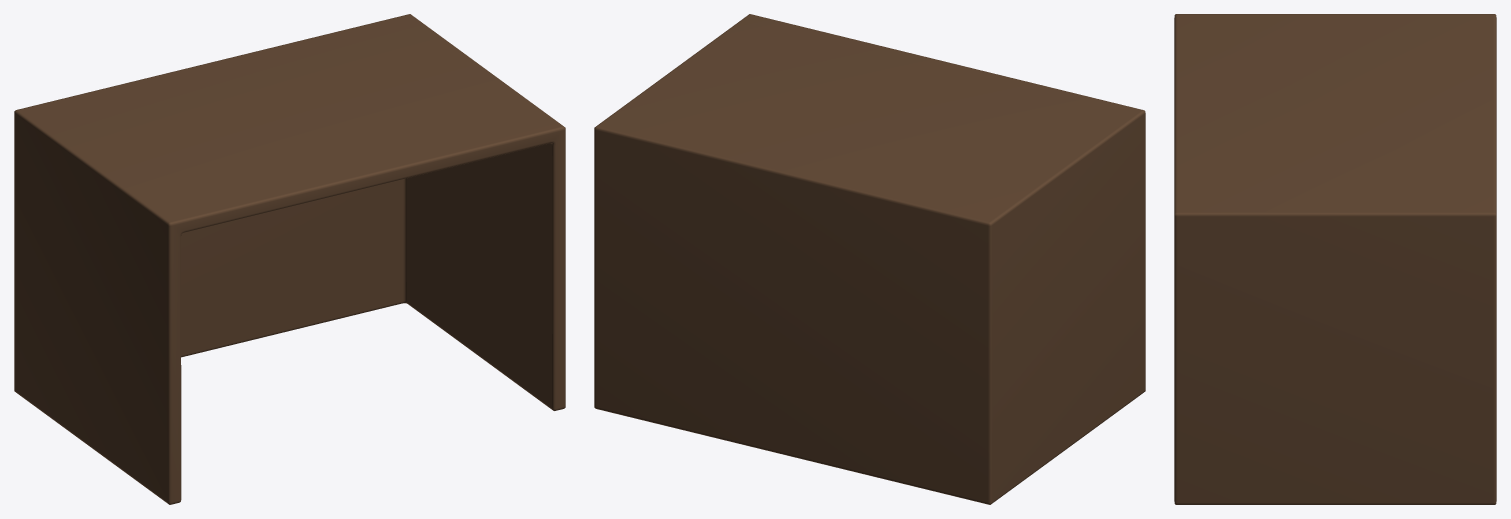
The model's file is desk1.fbx.
3 views of the same model, side by side, from view 1: azimuth 30°, elevation 25°; view 2: azimuth 150°, elevation 25°; view 3: azimuth 270°, elevation 25° (orthographic). The views are drawn at different scales.
Visible parts, largest first — view 1: BasicDesk; view 2: BasicDesk; view 3: BasicDesk.
Part boxes in pixels (x1,y1,x2,y2): BasicDesk: (14, 14, 565, 504); BasicDesk: (594, 14, 1145, 504); BasicDesk: (1174, 14, 1496, 504).
Bounding box in the file's own units: 232 × 158 × 158.
